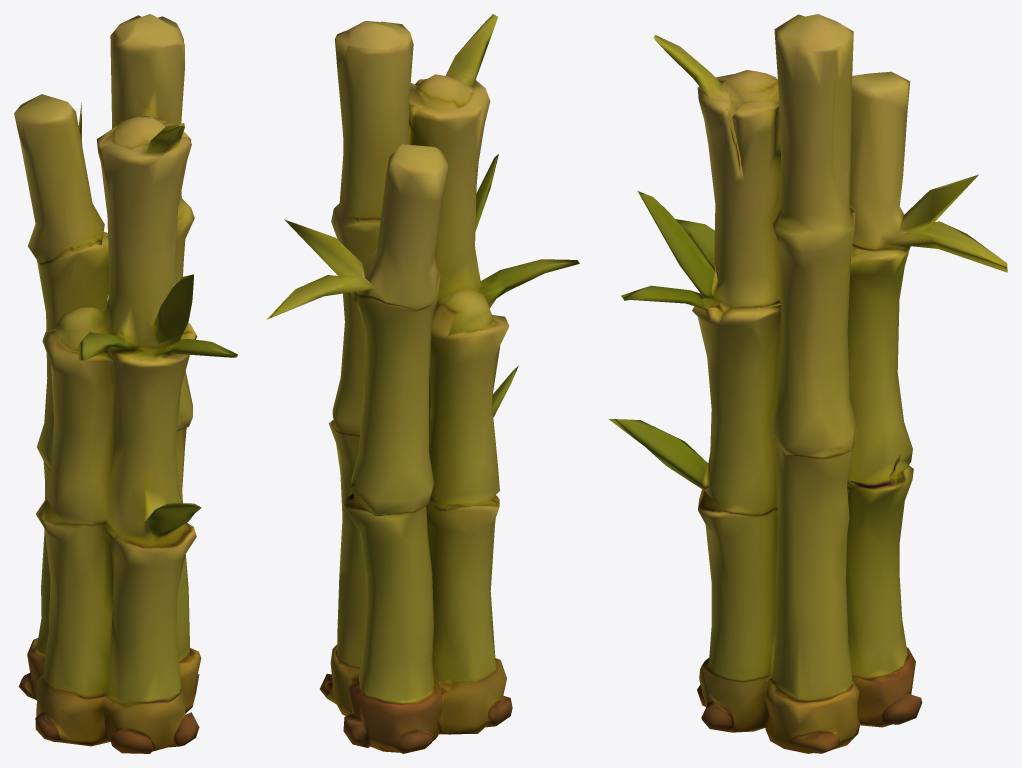
The model's file is prop-bamboo.glb.
3 renders of one model, left to right at view 1: azimuth 30°, elevation 25°; view 2: azimuth 150°, elevation 25°; view 3: azimuth 270°, elevation 25°, orthographic. The views are drawn at different scales.
Visible parts, largest first — view 1: tripo_node_851050f3-b479-4ec4-aa98-54ad44d9e536; view 2: tripo_node_851050f3-b479-4ec4-aa98-54ad44d9e536; view 3: tripo_node_851050f3-b479-4ec4-aa98-54ad44d9e536.
Part boxes in pixels (x1=…): tripo_node_851050f3-b479-4ec4-aa98-54ad44d9e536: x1=14, y1=14, x2=237, y2=753; tripo_node_851050f3-b479-4ec4-aa98-54ad44d9e536: x1=267, y1=14, x2=579, y2=753; tripo_node_851050f3-b479-4ec4-aa98-54ad44d9e536: x1=608, y1=14, x2=1007, y2=753.
Bounding box in the file's own units: 0.2792 × 0.9799 × 0.4937.
Materials: 1 (1 with a texture image).
